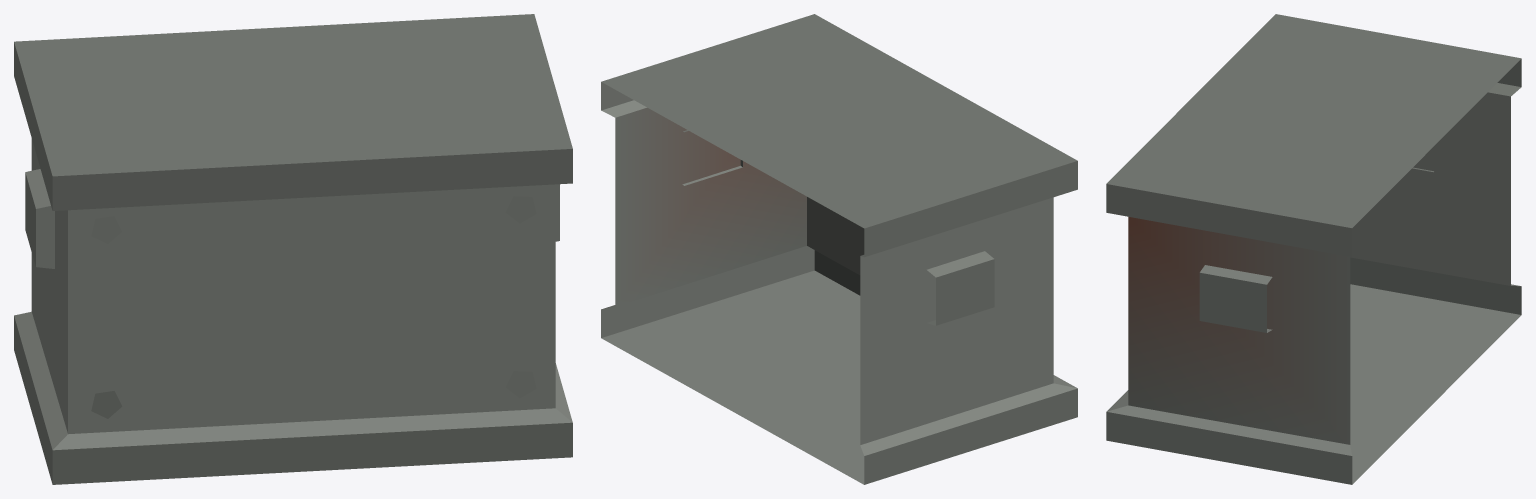
File: MSH_QuestObject_container_01.fbx
The picture shows the model from 3 angles, left to right: view 1: azimuth 30°, elevation 25°; view 2: azimuth 150°, elevation 25°; view 3: azimuth 270°, elevation 25°; orthographic projection. The views are drawn at different scales.
Parts seen in each view (by area): view 1: MSH_QuestObject_container_01; view 2: MSH_QuestObject_container_01; view 3: MSH_QuestObject_container_01.
Part boxes in pixels (x1,y1,x2,y2): MSH_QuestObject_container_01: (14,14,572,484); MSH_QuestObject_container_01: (601,14,1077,484); MSH_QuestObject_container_01: (1106,14,1521,484).
Size of the model in its own units: 1.64 by 0.9162 by 1.34.
